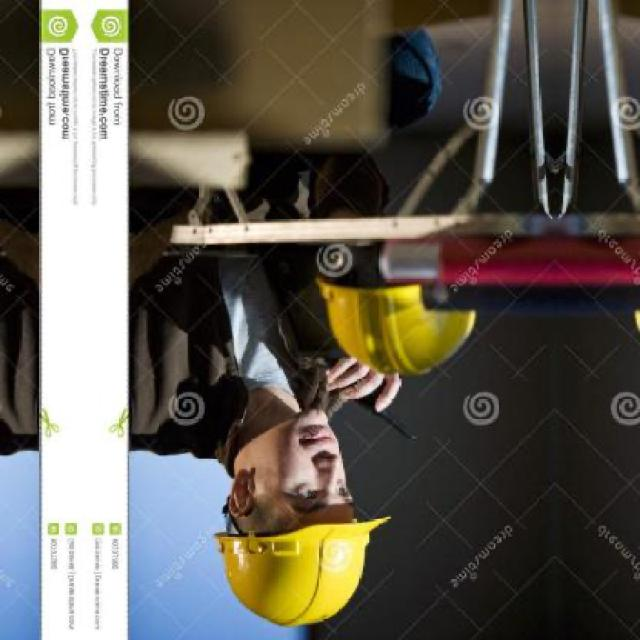con casco: (212, 416, 443, 620)
